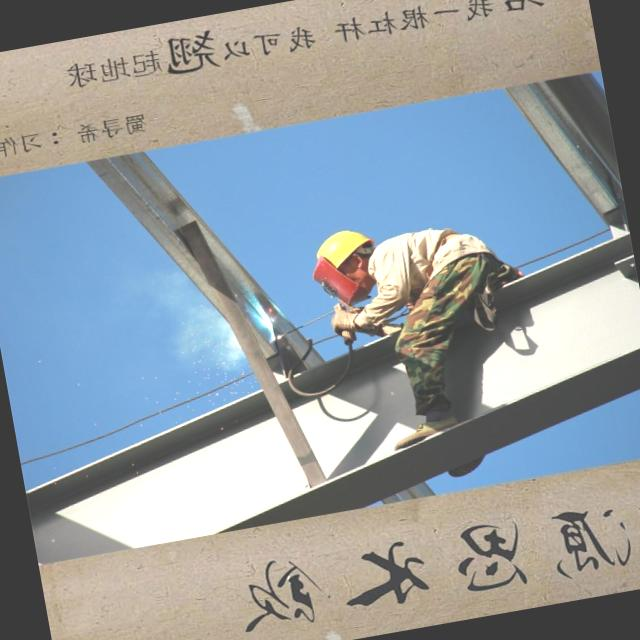helmet: (302, 220, 381, 276)
no-vest: (352, 214, 506, 320)
